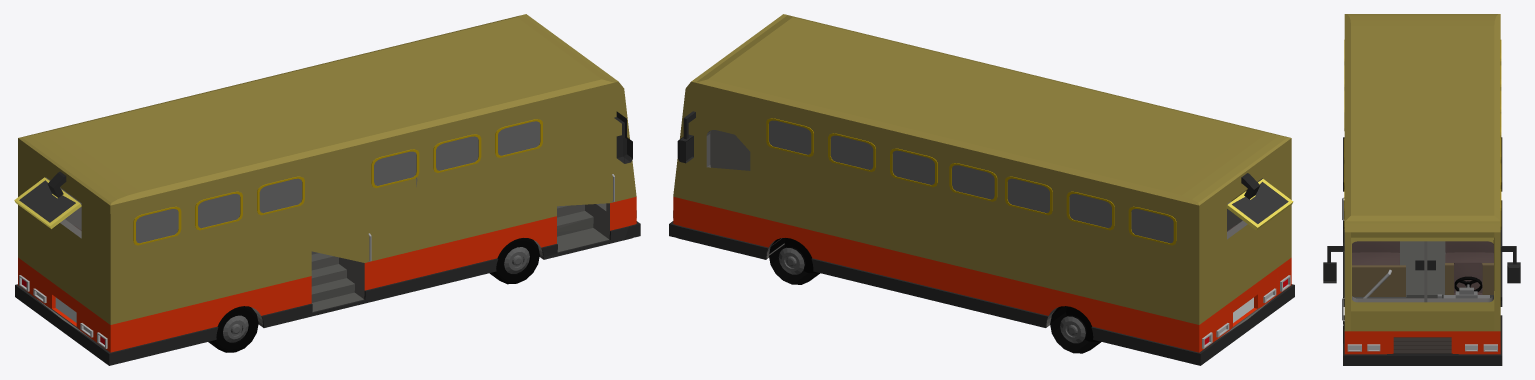
The model's file is Bus.fbx.
The picture shows the model from 3 angles, left to right: view 1: azimuth 30°, elevation 25°; view 2: azimuth 150°, elevation 25°; view 3: azimuth 270°, elevation 25°; orthographic projection. The views are drawn at different scales.
Visible parts, largest first — view 1: Bus; view 2: Bus; view 3: Bus.
Boxes of the visible parts, left/top/right/bottom form: Bus: left=14, top=14, right=640, bottom=365; Bus: left=669, top=14, right=1294, bottom=365; Bus: left=1323, top=14, right=1520, bottom=365.
Size of the model in its own units: 2118 by 662 by 766.
